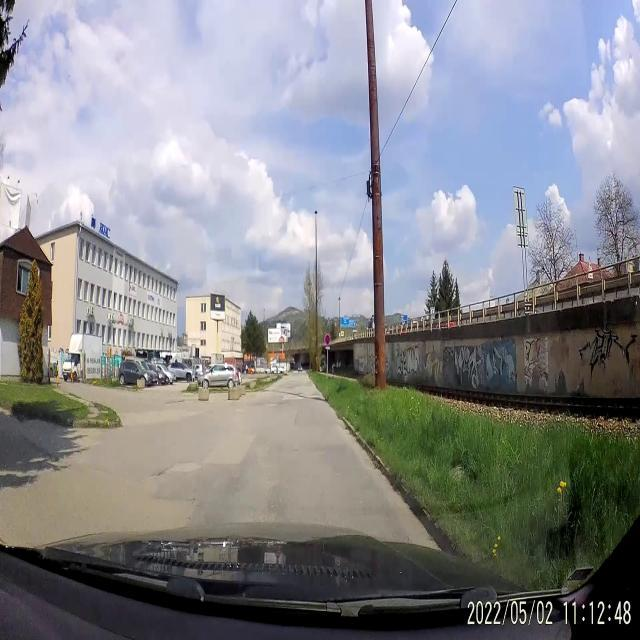Pothole: (154, 451, 182, 489)
